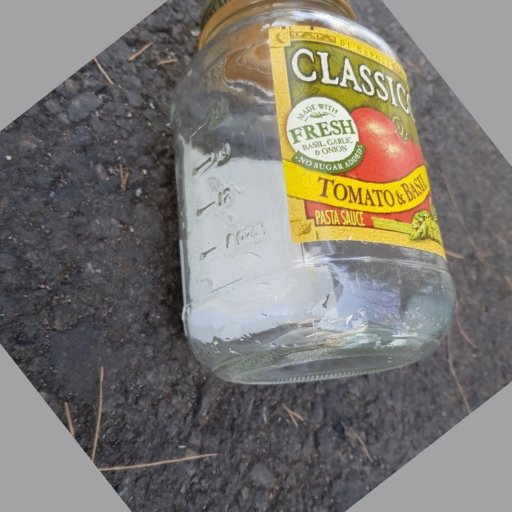Glass_5: (158, 1, 458, 386)
